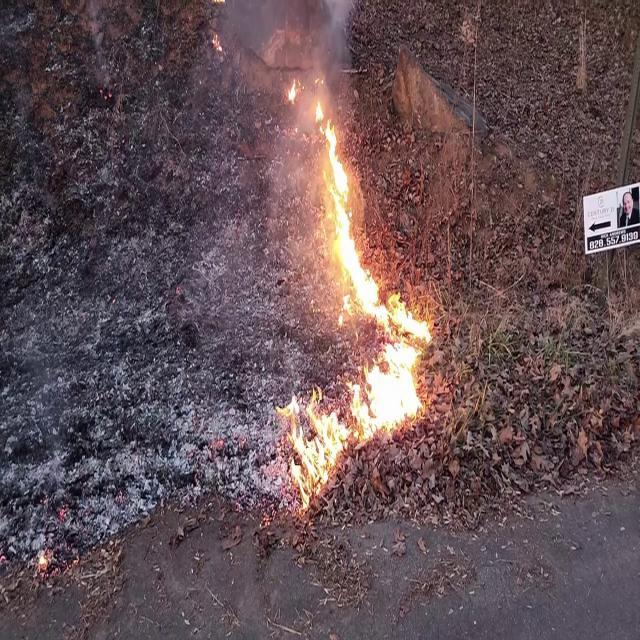Fire: (284, 290, 434, 512), (308, 99, 381, 308), (280, 74, 304, 103)
